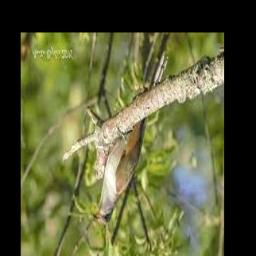Cuckoo: (93, 50, 168, 224)
